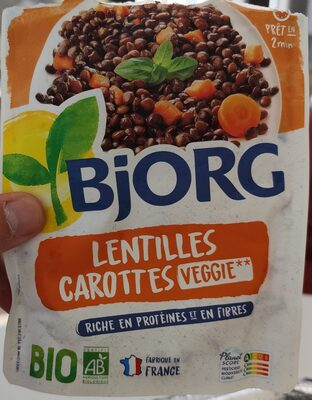Lentilles Carottes: (16, 20, 296, 380)
